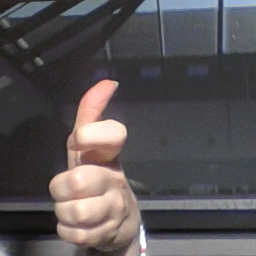G: (46, 78, 146, 248)
